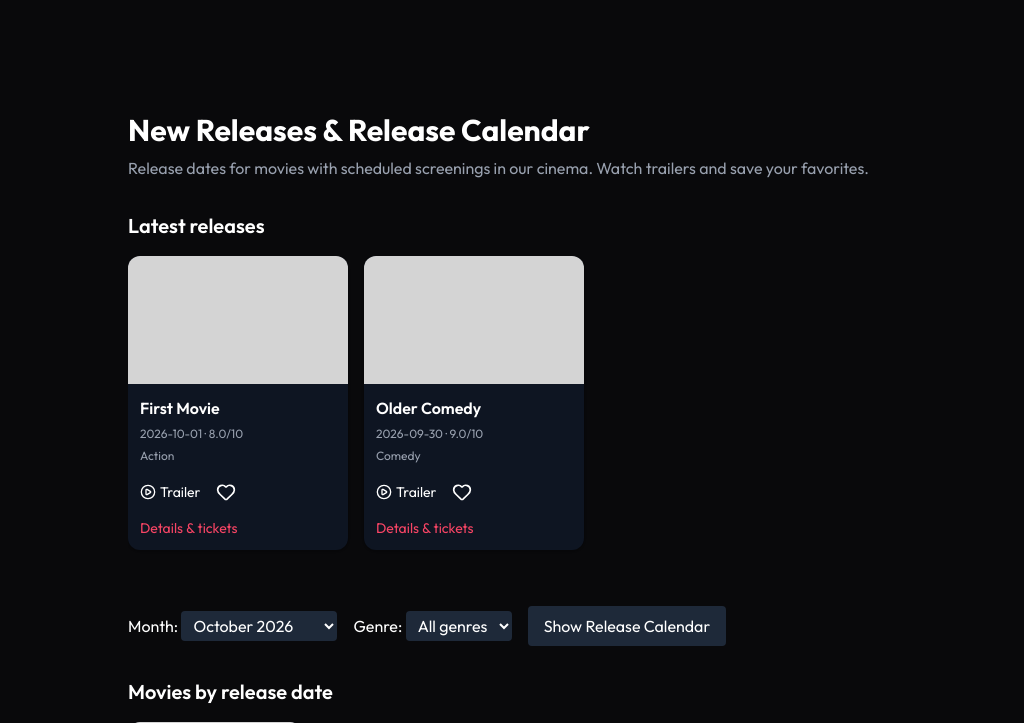
Test case: MovieHub and Releases › allows guests to browse releases and highlights the exact release day
Expected: the dropdown labelled "Month" shows "October 2026", top-left (182, 611), bottom-right (338, 641)
Click the button "Show Release Calendar" at (627, 626), box top-left (528, 606), bottom-right (726, 646)
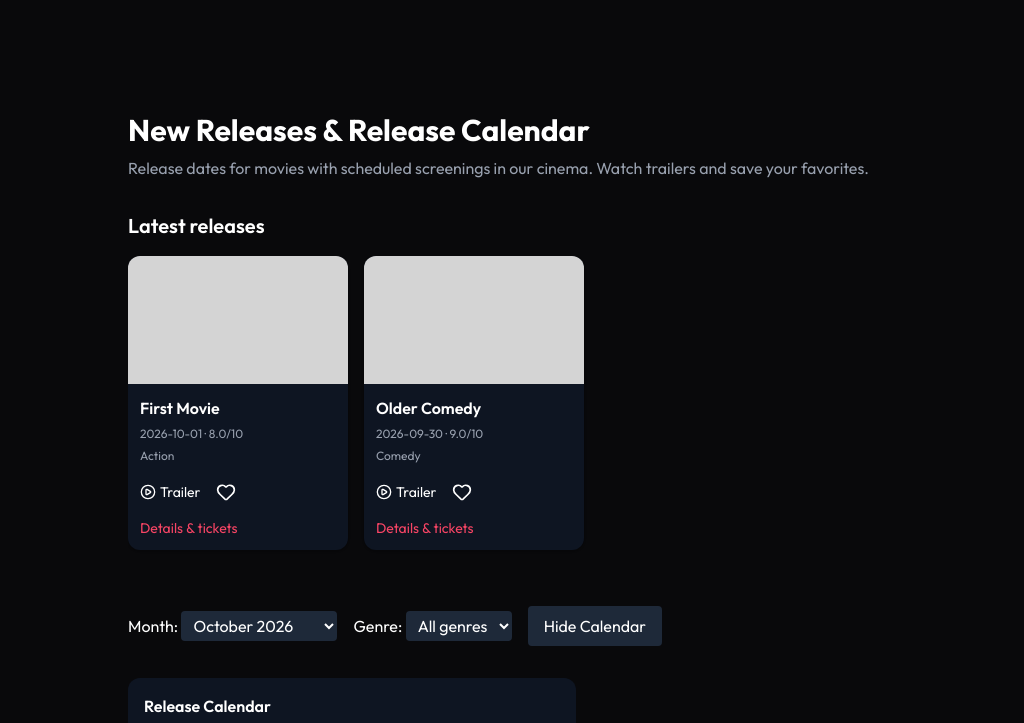
Select "September 2026" in the dropdown labelled "Month" at (260, 626), box top-left (182, 611), bottom-right (338, 641)
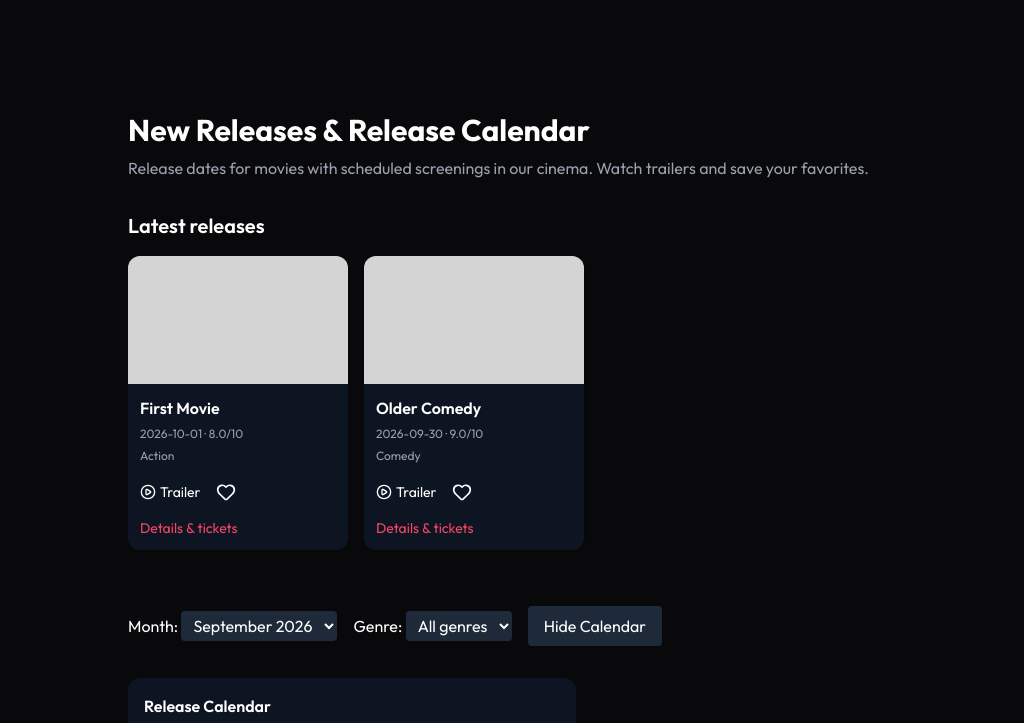
Select "Action" in the dropdown labelled "Genre" at (459, 626), box top-left (406, 611), bottom-right (512, 641)
(page scrolled)
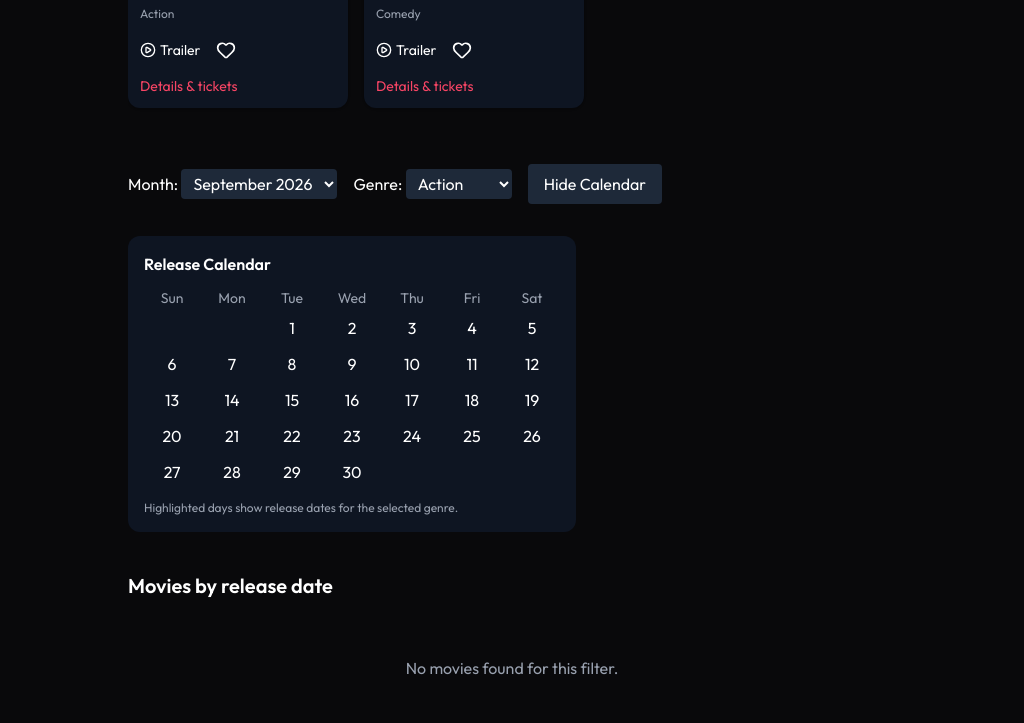
Now the text "No movies found for this filter." is shown, box top-left (406, 658), bottom-right (618, 678)
